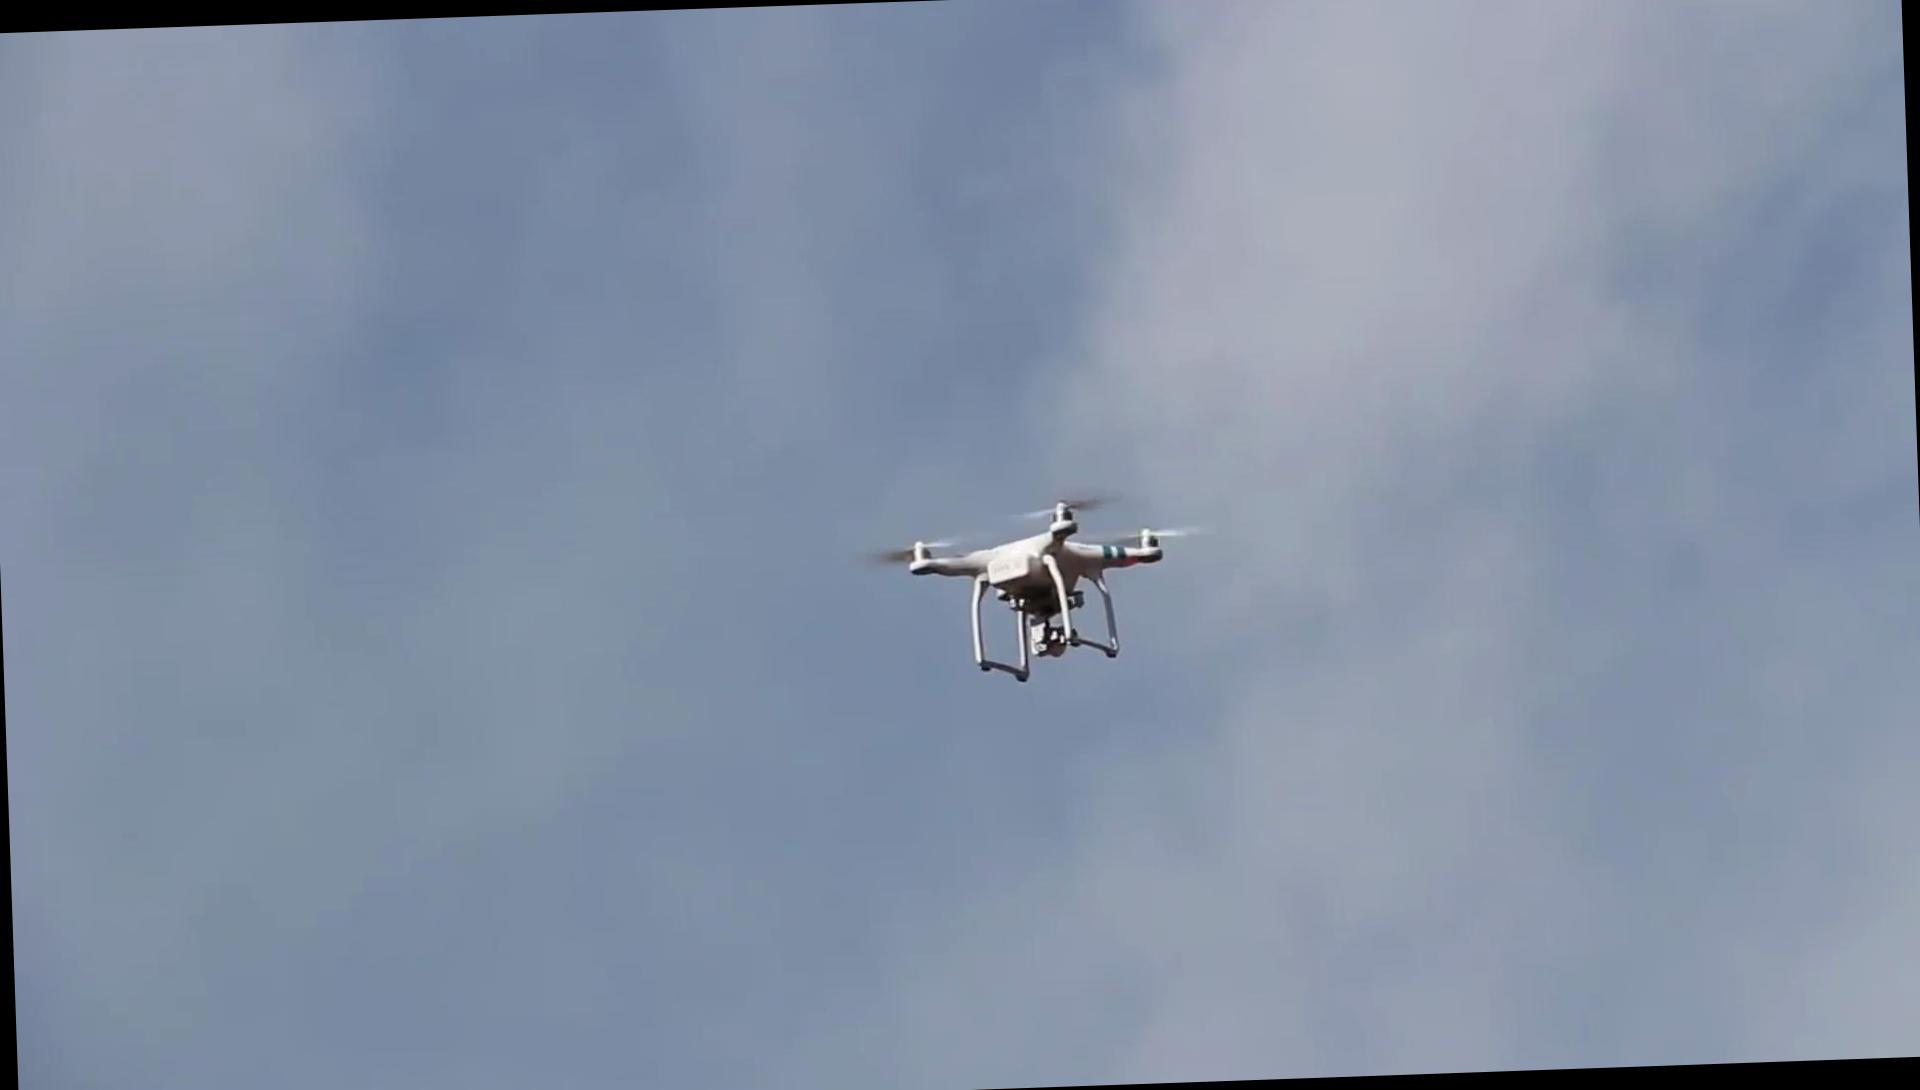drone: (895, 478, 1188, 685)
